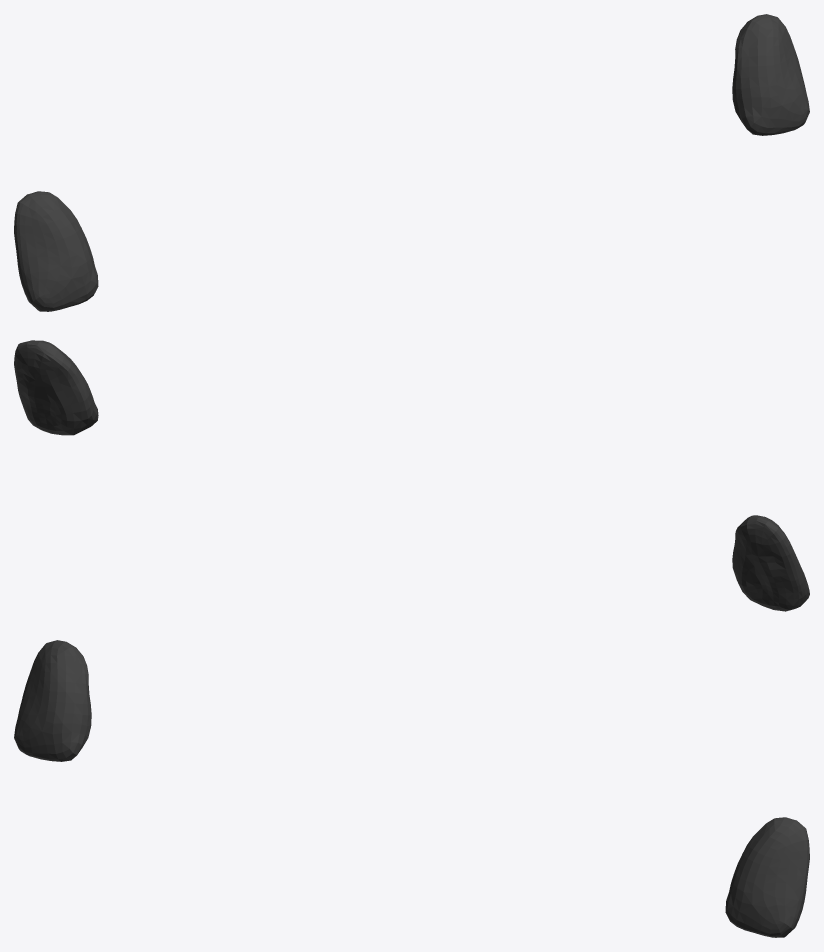
Rendered from Patella_1.glb.
3 renders of one model, top to bottom at view 1: azimuth 30°, elevation 25°; view 2: azimuth 150°, elevation 25°; view 3: azimuth 330°, elevation 25°, orthographic.
Visible parts, largest first — view 1: Patella_1; view 2: Patella_1; view 3: Patella_1.
Part boxes in pixels (<box>): Patella_1: <box>14,14,809,311</box>; Patella_1: <box>14,340,809,611</box>; Patella_1: <box>14,640,809,937</box>.
Bounding box in the file's own units: 0.00464 × 0.000587 × 0.000338.
1 material, 1 textured.
